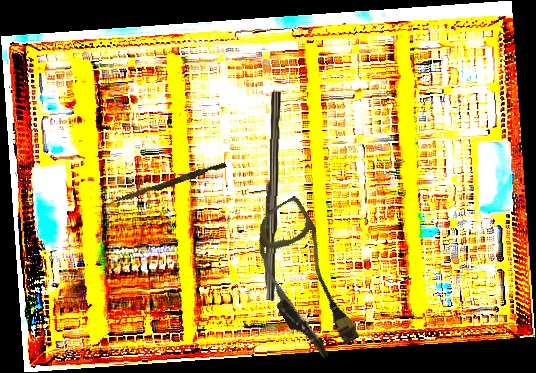Cannula: (232, 194, 376, 366)
Pusher: (109, 159, 227, 209)
Scalpel Handle: (261, 91, 282, 301)
